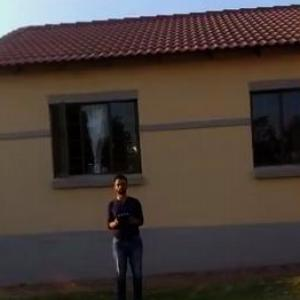follow: (103, 167, 152, 299)
